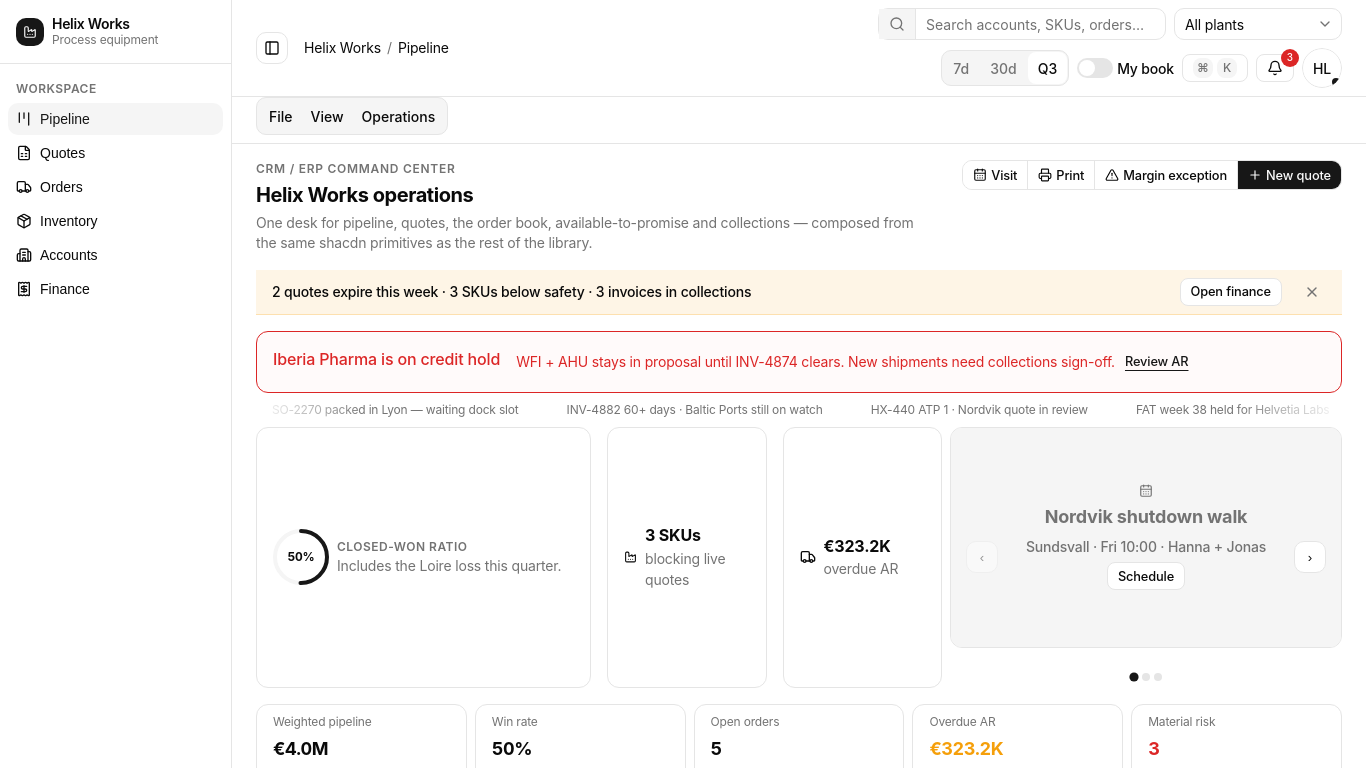
Scenario: CrmErp › opens the site-visit drawer from the operations menu
Click the button "Visit" at {"x": 995, "y": 175}, box x1=963 y1=161 x2=1027 y2=189
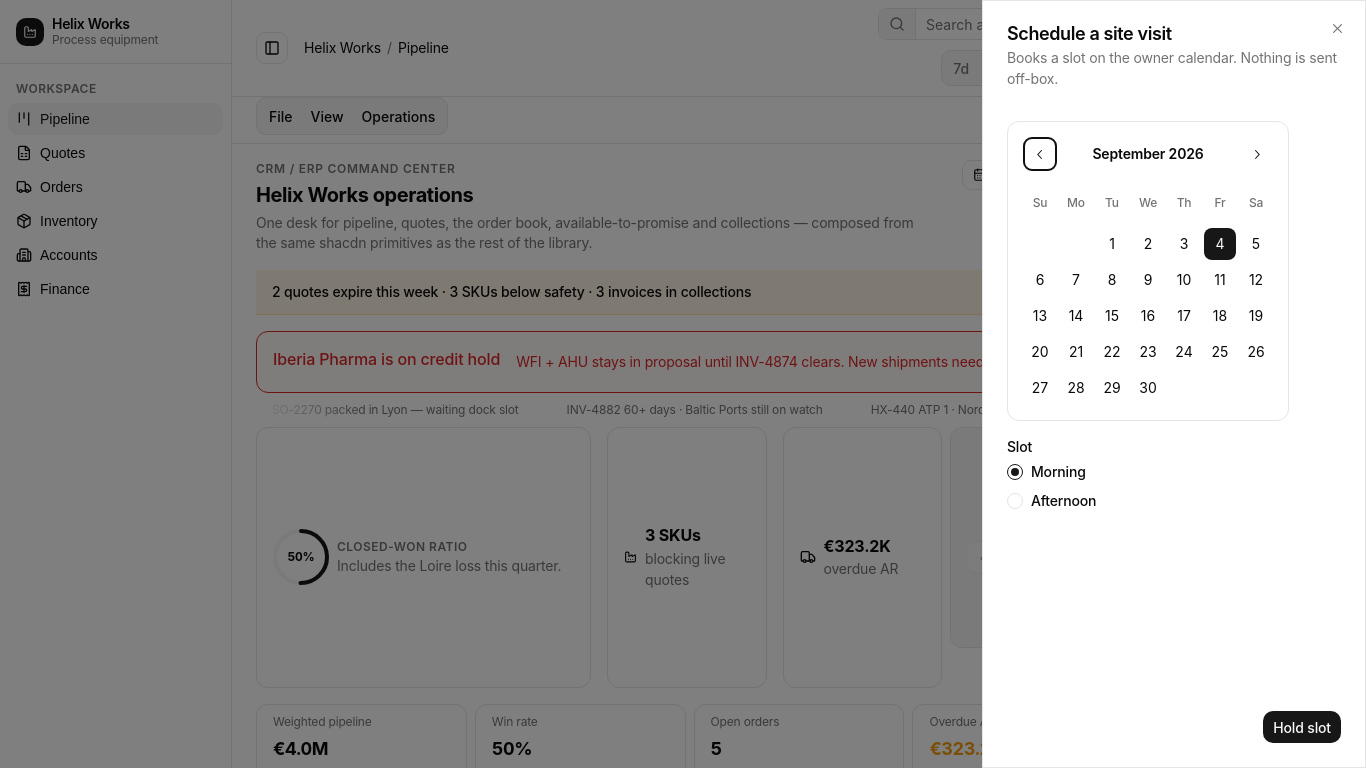
Now the heading "Schedule a site visit" is shown, box x1=1007 y1=23 x2=1172 y2=44
